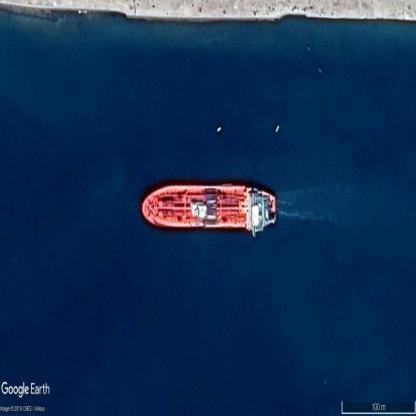ship: (142, 185, 276, 234), (276, 124, 279, 133), (217, 126, 221, 132)
